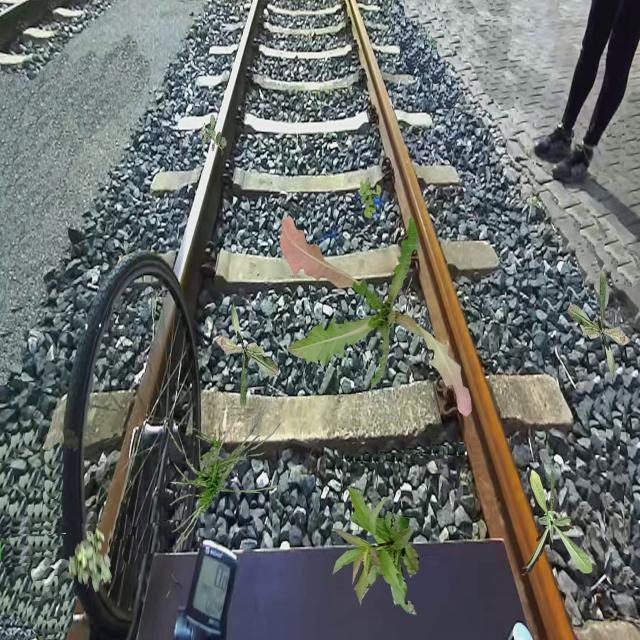Plant: (279, 215, 472, 418), (162, 392, 280, 556), (331, 486, 419, 616), (521, 468, 592, 576), (567, 271, 631, 383), (216, 299, 280, 411), (68, 526, 111, 592), (199, 115, 226, 156), (358, 178, 382, 219), (544, 510, 558, 530)
